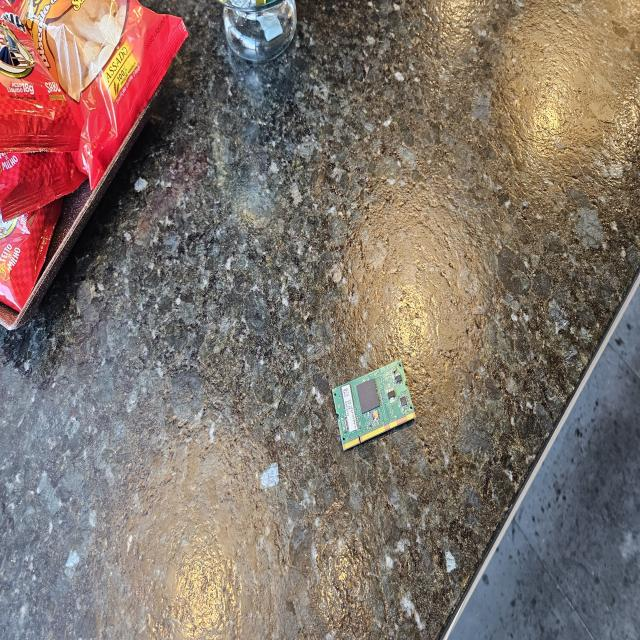som: (325, 353, 421, 453)
